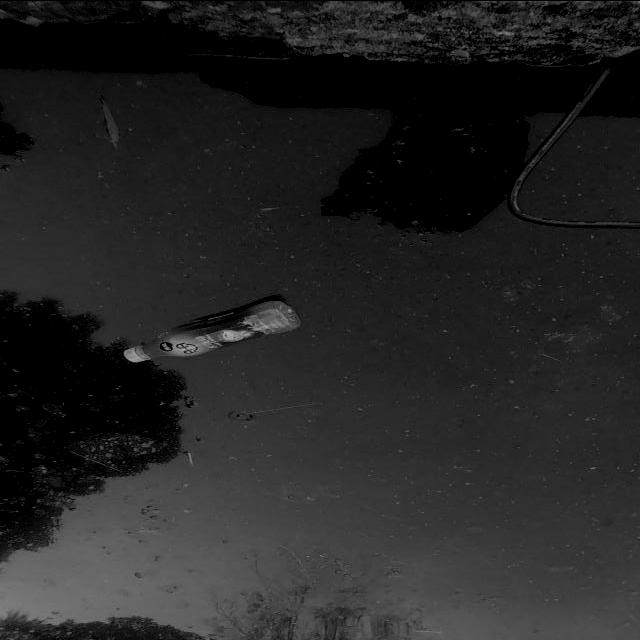bottle: (78, 275, 333, 377)
